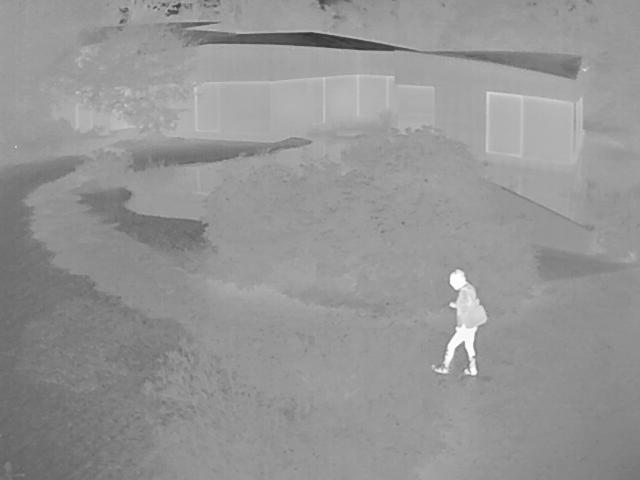person: (434, 269, 488, 374)
